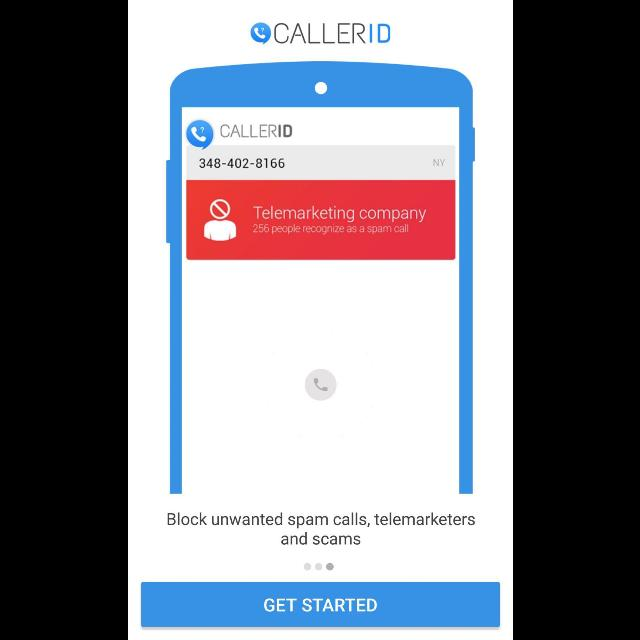image: (166, 62, 474, 494), (250, 23, 390, 45)
pageindicator: (303, 563, 333, 571)
text: (167, 512, 475, 546)
textbutton: (141, 582, 499, 628)
